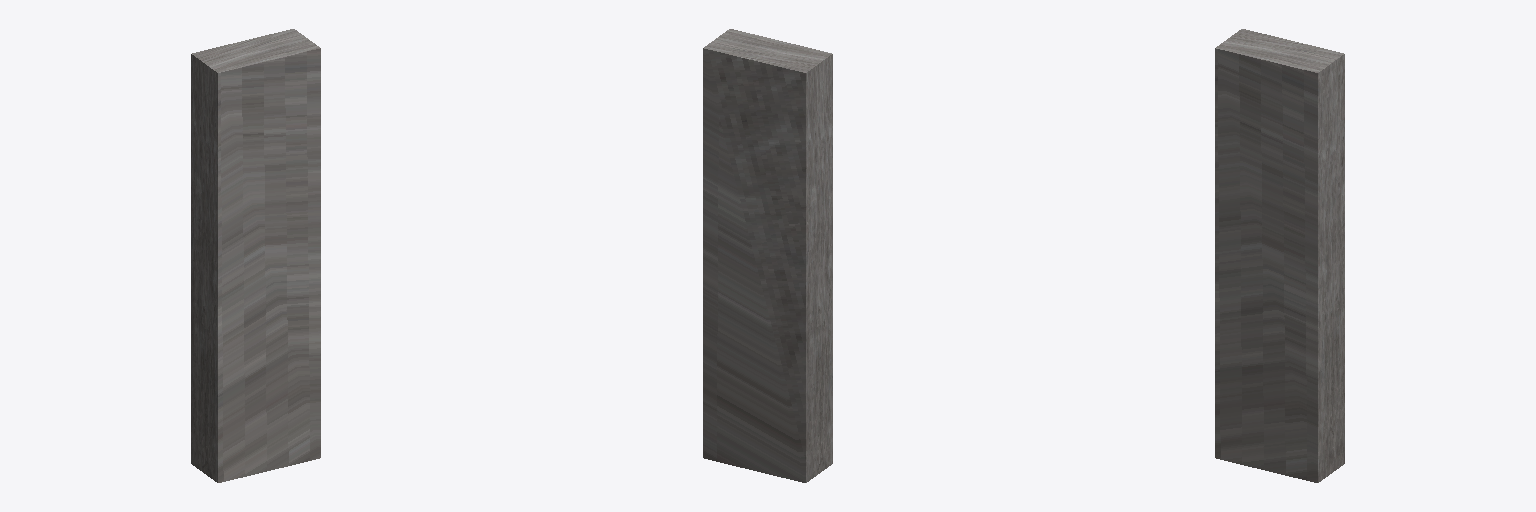
3 views of the same model, side by side, from view 1: azimuth 30°, elevation 25°; view 2: azimuth 150°, elevation 25°; view 3: azimuth 330°, elevation 25° (orthographic).
Parts seen in each view (by area): view 1: Cube; view 2: Cube; view 3: Cube.
Boxes of the visible parts, x1,y1,x2,y2 form: Cube: [191, 29, 320, 482]; Cube: [703, 29, 832, 482]; Cube: [1215, 29, 1344, 482].
Size of the model in its own units: 2.42 by 9.21 by 1.09.
1 materials, 1 textured.